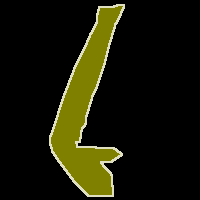tie: (50, 4, 124, 196)
